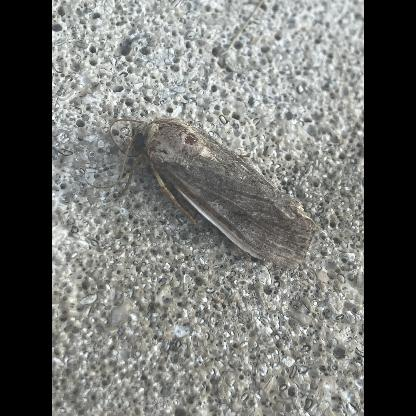Fall Armyworm Moth: (99, 116, 321, 276)
